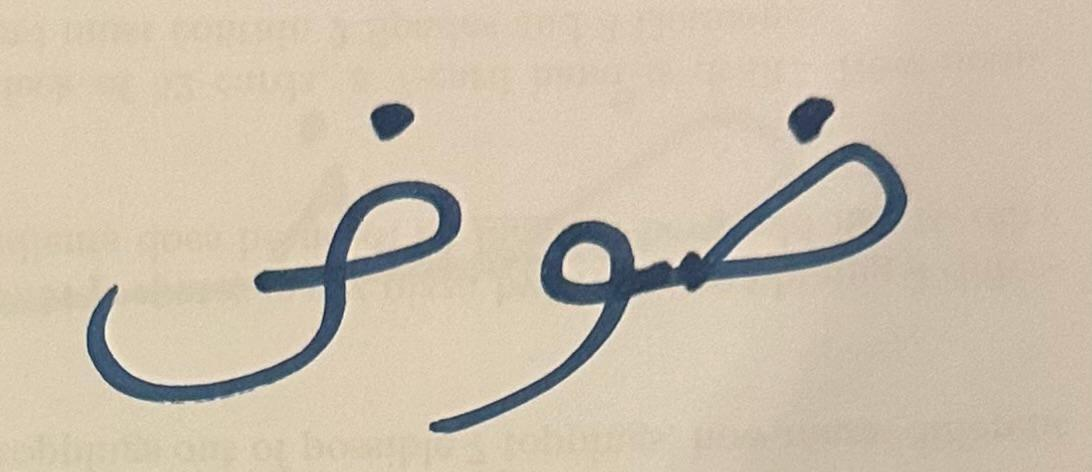dad: (32, 27, 468, 409), (659, 36, 961, 373)
yeh: (473, 144, 654, 455)
